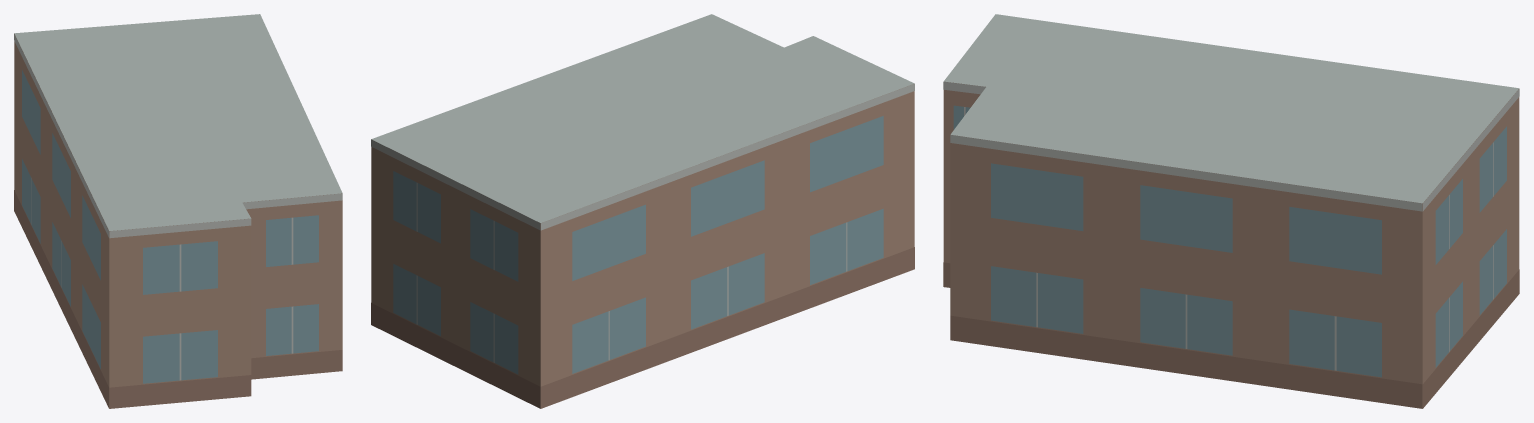
Rendered from survey-upis-32682198.glb.
3 views of the same model, side by side, from view 1: azimuth 30°, elevation 25°; view 2: azimuth 150°, elevation 25°; view 3: azimuth 270°, elevation 25° (orthographic). The views are drawn at different scales.
Visible parts, largest first — view 1: survey-upis-32682198.tmp; view 2: survey-upis-32682198.tmp; view 3: survey-upis-32682198.tmp.
Boxes of the visible parts, x1,y1,x2,y2 form: survey-upis-32682198.tmp: (14,14,342,408); survey-upis-32682198.tmp: (371,14,914,408); survey-upis-32682198.tmp: (943,14,1519,408).
Size of the model in its own units: 12.07 by 6.1 by 15.51.
